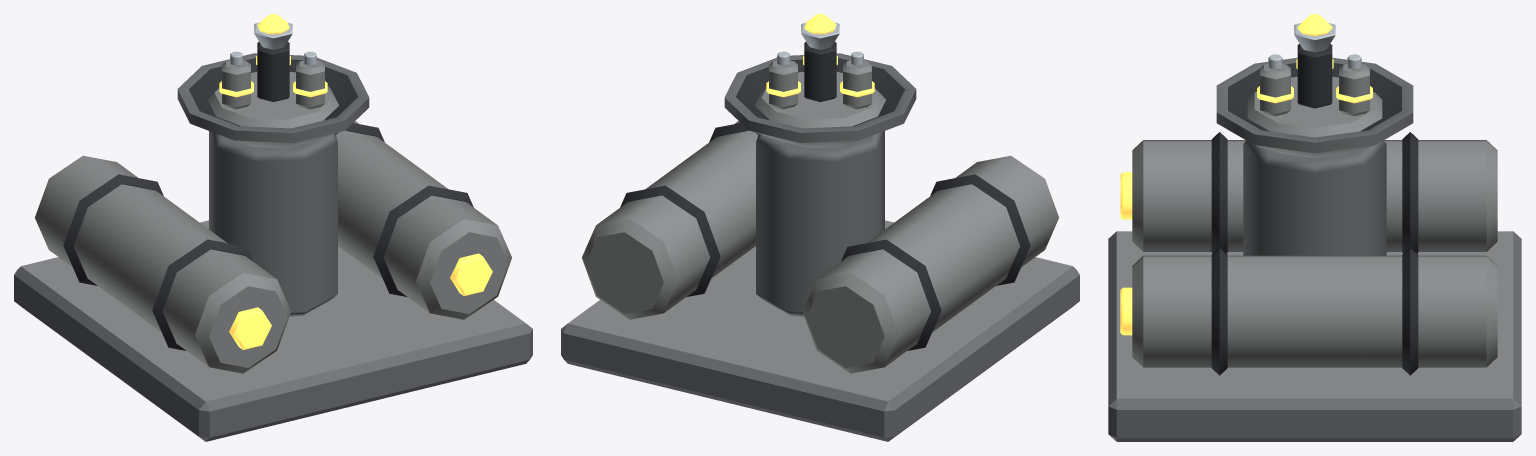
File: R4X_BurnTrapDeployer_LOD1.glb
3 renders of one model, left to right at view 1: azimuth 30°, elevation 25°; view 2: azimuth 150°, elevation 25°; view 3: azimuth 270°, elevation 25°, orthographic. The views are drawn at different scales.
Parts seen in each view (by area): view 1: R4X_BurnTrapDeployer_LOD1; view 2: R4X_BurnTrapDeployer_LOD1; view 3: R4X_BurnTrapDeployer_LOD1.
Boxes of the visible parts, x1,y1,x2,y2 form: R4X_BurnTrapDeployer_LOD1: [14, 14, 532, 441]; R4X_BurnTrapDeployer_LOD1: [561, 14, 1079, 441]; R4X_BurnTrapDeployer_LOD1: [1108, 14, 1521, 441].
Size of the model in its own units: 0.52 by 0.476 by 0.52.
